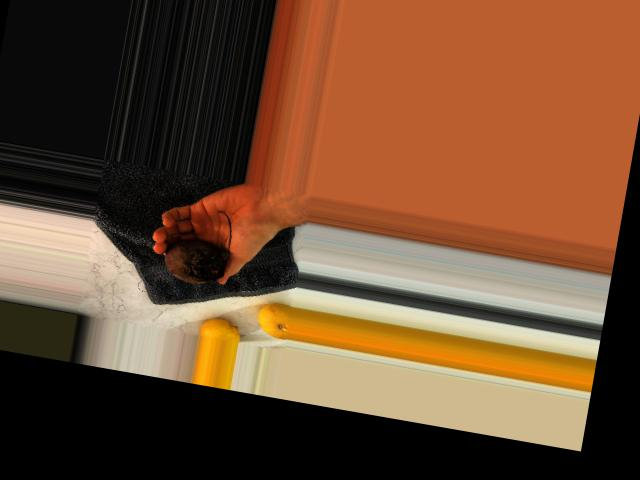beet: (159, 202, 233, 288)
